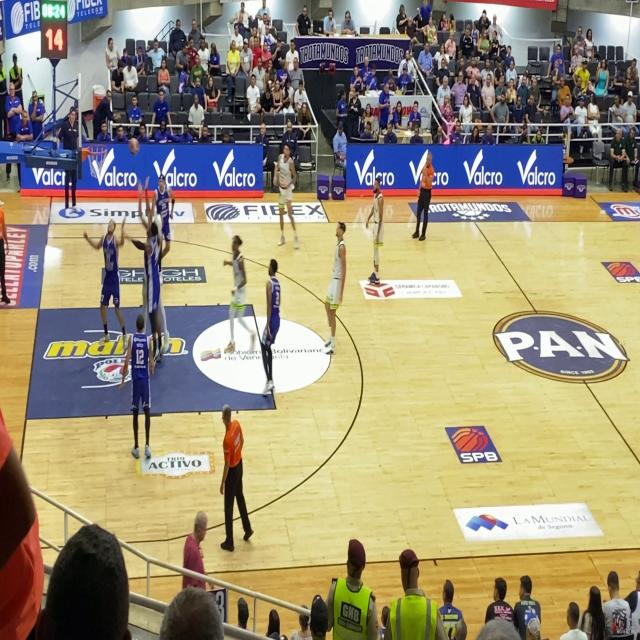referee: (207, 394, 254, 554), (410, 149, 436, 244), (0, 184, 15, 309)
team1: (270, 130, 302, 237), (366, 162, 392, 283), (222, 225, 246, 343)
team2: (118, 308, 157, 462), (126, 200, 166, 332), (90, 208, 126, 354), (256, 247, 284, 418), (156, 166, 180, 245)
